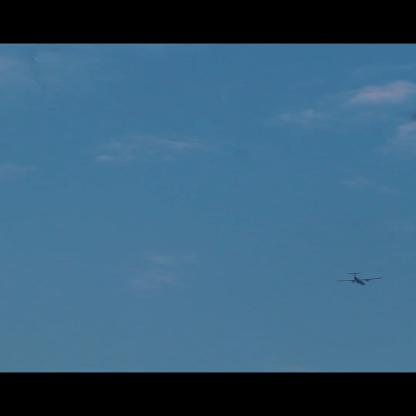plane: (336, 272, 382, 285)
